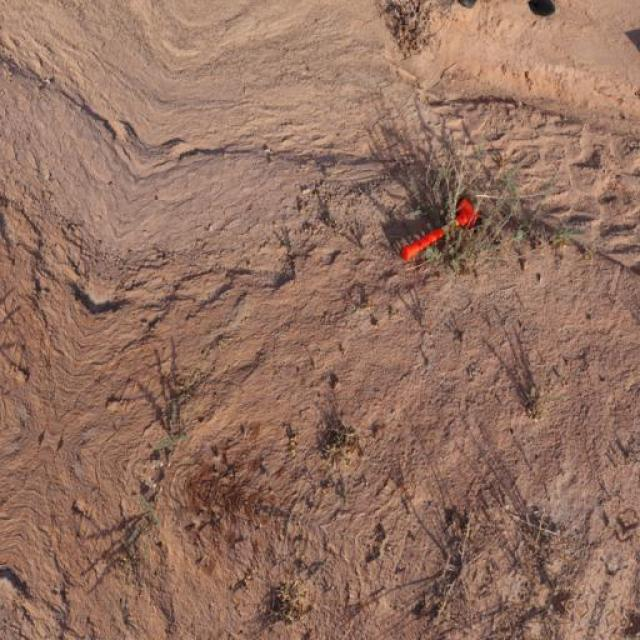mallet: (399, 196, 479, 262)
